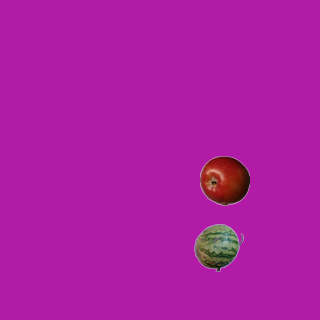Apple Braeburn: (199, 155, 249, 205)
Watermelon: (193, 222, 243, 272)
